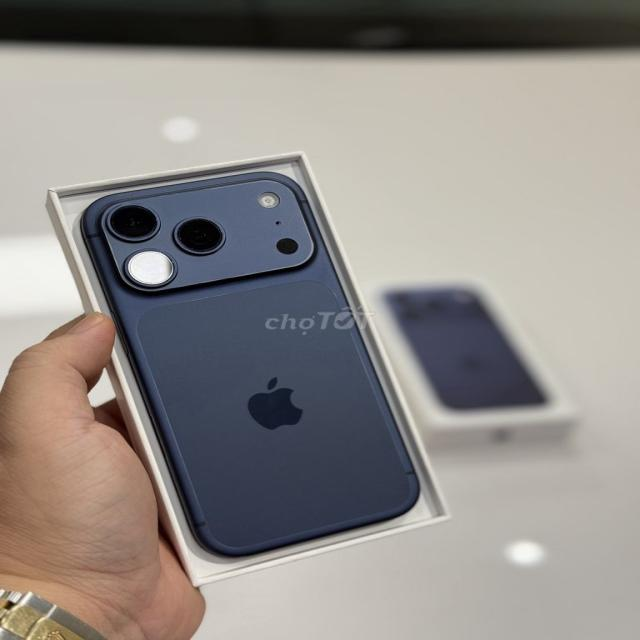gen_17: (56, 180, 437, 564)
